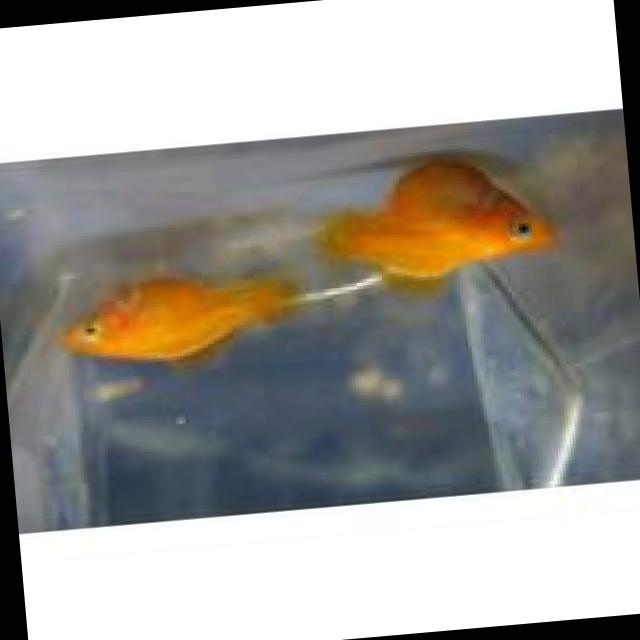PlatyFish: (312, 135, 570, 307), (41, 257, 312, 388)
